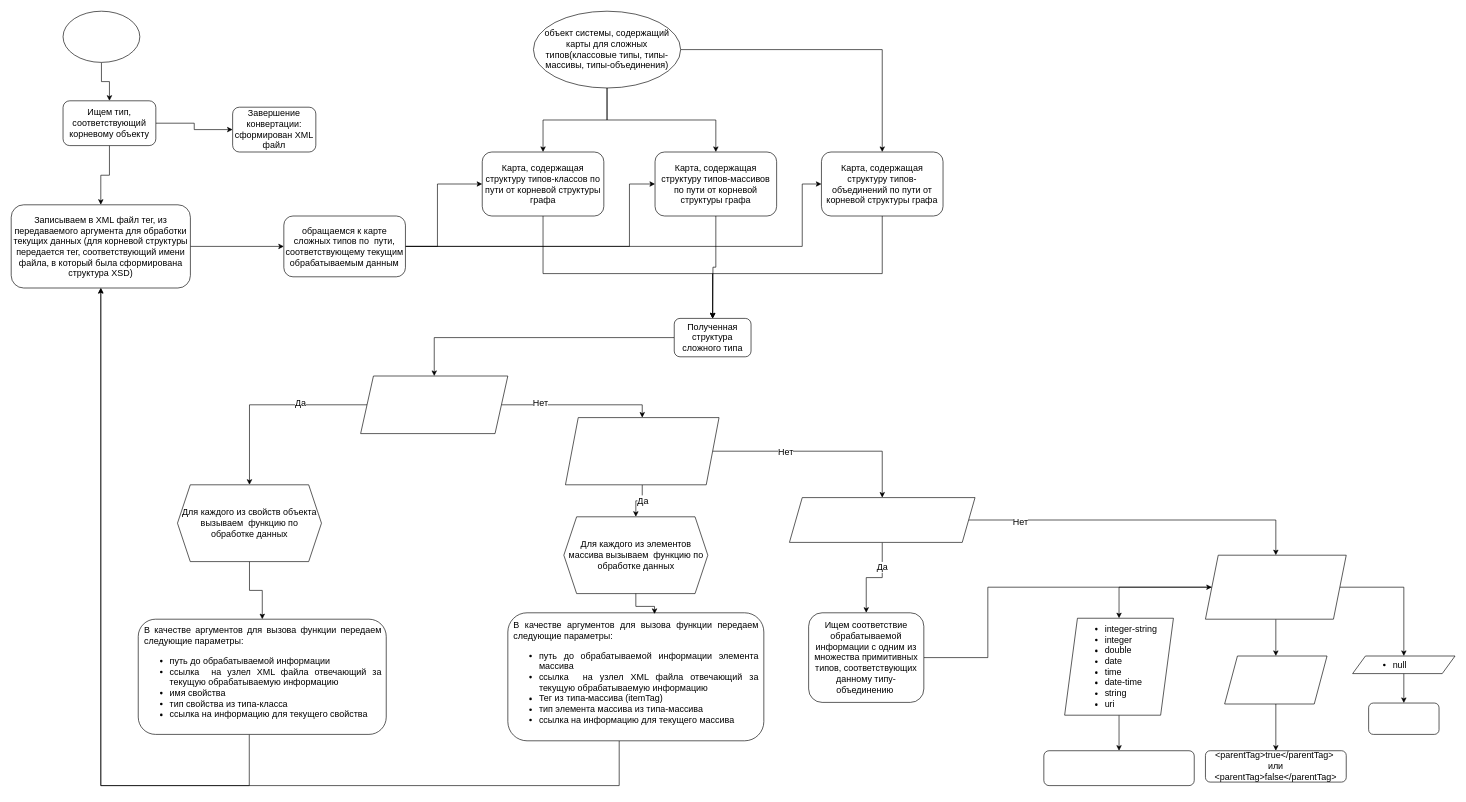
The diagram is 1466 pixels wide and 802 high, and some of its shapes have lost their labels. Here are the shapes that lost their labels. From the top down, the centre of each, then its label:
At pixel 101 36: "объект, основанный на JSON файле".
At pixel 434 404: "даные представлены как тип-класс?".
At pixel 642 451: "данные представлены как тип-массив?".
At pixel 882 519: "данные представлены каr тип-объединение?".
At pixel 1275 587: "данные представлены как примитивный тип?".
At pixel 1275 679: "boolean-string boolean".
At pixel 1403 718: "<parentTag/>".
At pixel 1118 768: "<parentTag>someData</parentTag>".
